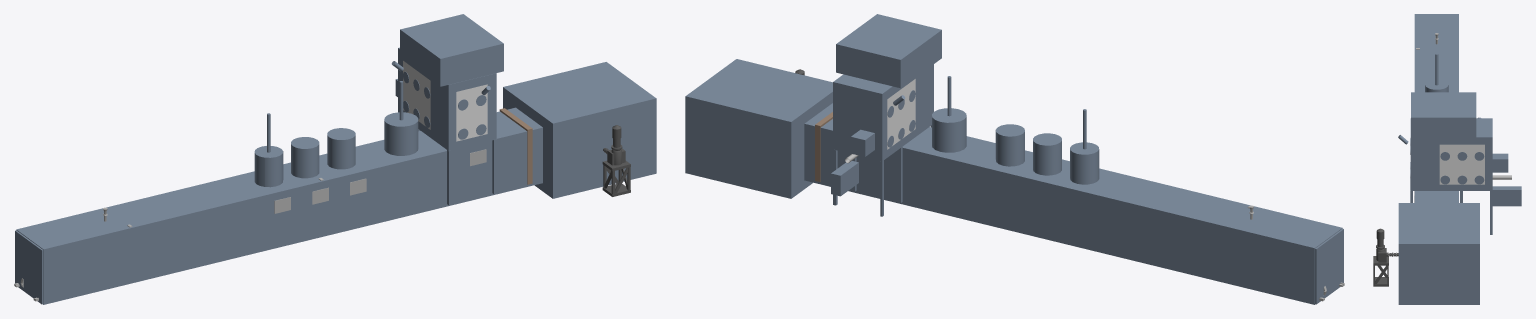
File: PowderStorageBox_forUnity_fixnormal_and_distance.fbx
The picture shows the model from 3 angles, left to right: view 1: azimuth 30°, elevation 25°; view 2: azimuth 150°, elevation 25°; view 3: azimuth 270°, elevation 25°; orthographic projection. The views are drawn at different scales.
Parts seen in each view (by area): view 1: Tunnel, SamplingUnitCor, Door; view 2: Tunnel, SamplingUnitCor, Door; view 3: Tunnel, SamplingUnitCor, Grabber_01.
Part boxes in pixels (x1,y1,x2,y2): Tunnel: (14,62,656,304); SamplingUnitCor: (391,14,503,205); Door: (499,108,532,184); Tunnel: (685,59,1344,304); SamplingUnitCor: (831,14,941,216); Door: (815,112,832,181); Tunnel: (1373,14,1479,304); SamplingUnitCor: (1398,92,1521,234); Grabber_01: (1435,53,1438,85).
Bounding box in the file's own units: 1508 × 380 × 393.
